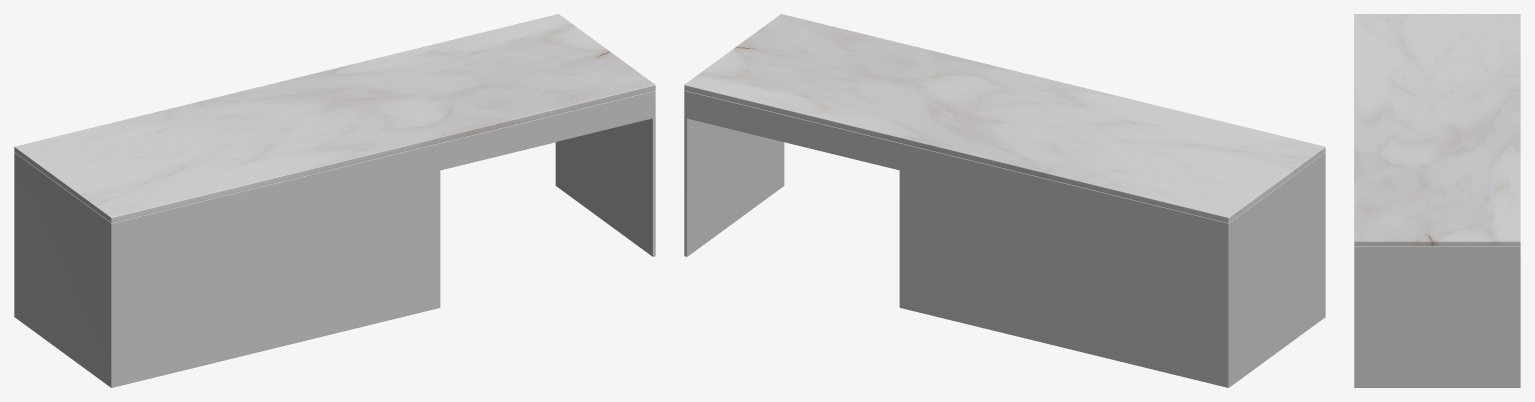
Rendered from Kitchen Table.fbx.
3 views of the same model, side by side, from view 1: azimuth 30°, elevation 25°; view 2: azimuth 150°, elevation 25°; view 3: azimuth 270°, elevation 25° (orthographic). The views are drawn at different scales.
Visible parts, largest first — view 1: Cube.057; view 2: Cube.057; view 3: Cube.057.
Part boxes in pixels (<box>): Cube.057: <box>14,14,655,387</box>; Cube.057: <box>684,14,1325,387</box>; Cube.057: <box>1354,14,1520,387</box>.
Bounding box in the file's own units: 254 × 76.38 × 78.52.
2 materials, 1 textured.
